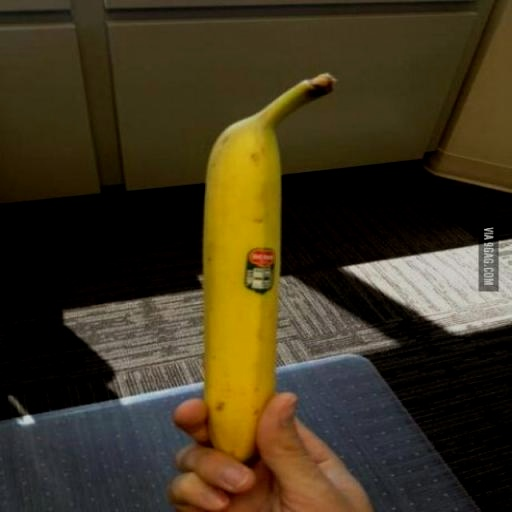fruit: (204, 74, 334, 461)
